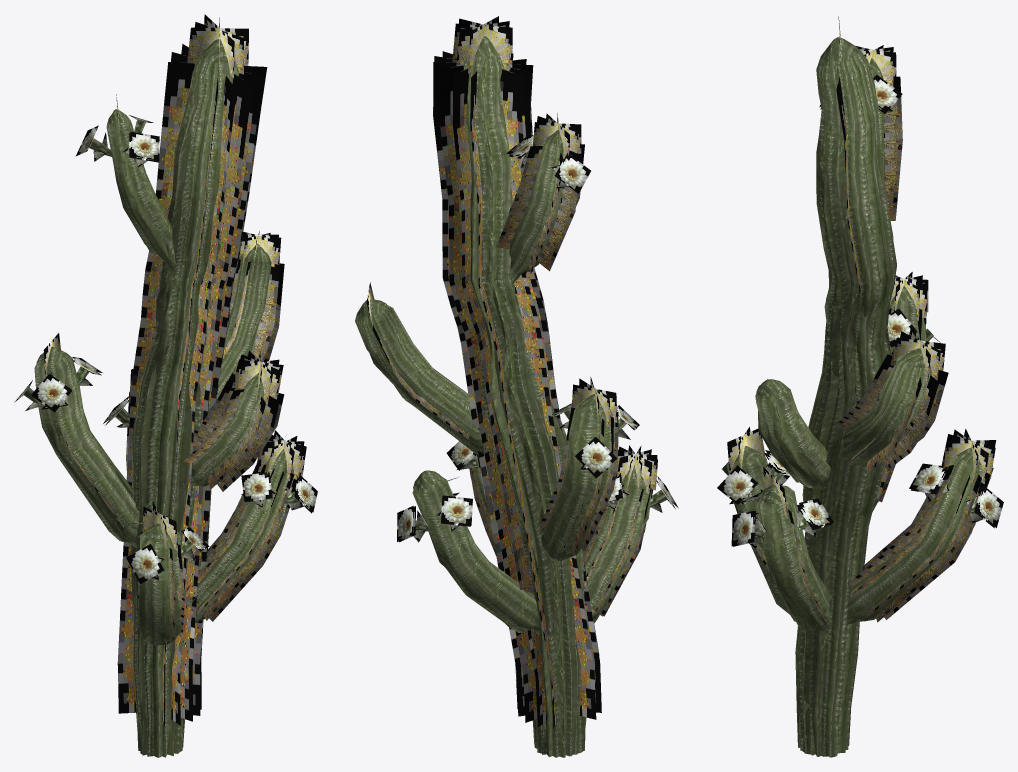
The model's file is SaguaroCactus_Low-transformed.glb.
The picture shows the model from 3 angles, left to right: view 1: azimuth 30°, elevation 25°; view 2: azimuth 150°, elevation 25°; view 3: azimuth 270°, elevation 25°; orthographic projection. The views are drawn at different scales.
Visible parts, largest first — view 1: SaguaroCactus_Low_LOD0; view 2: SaguaroCactus_Low_LOD0; view 3: SaguaroCactus_Low_LOD0.
Boxes of the visible parts, x1,y1,x2,y2 form: SaguaroCactus_Low_LOD0: (14, 14, 317, 757); SaguaroCactus_Low_LOD0: (355, 16, 678, 757); SaguaroCactus_Low_LOD0: (717, 16, 1003, 757).
Size of the model in its own units: 2.41 by 6.1 by 2.16.
Materials: 2 (2 with a texture image).
